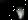person: (17, 8, 25, 20)
